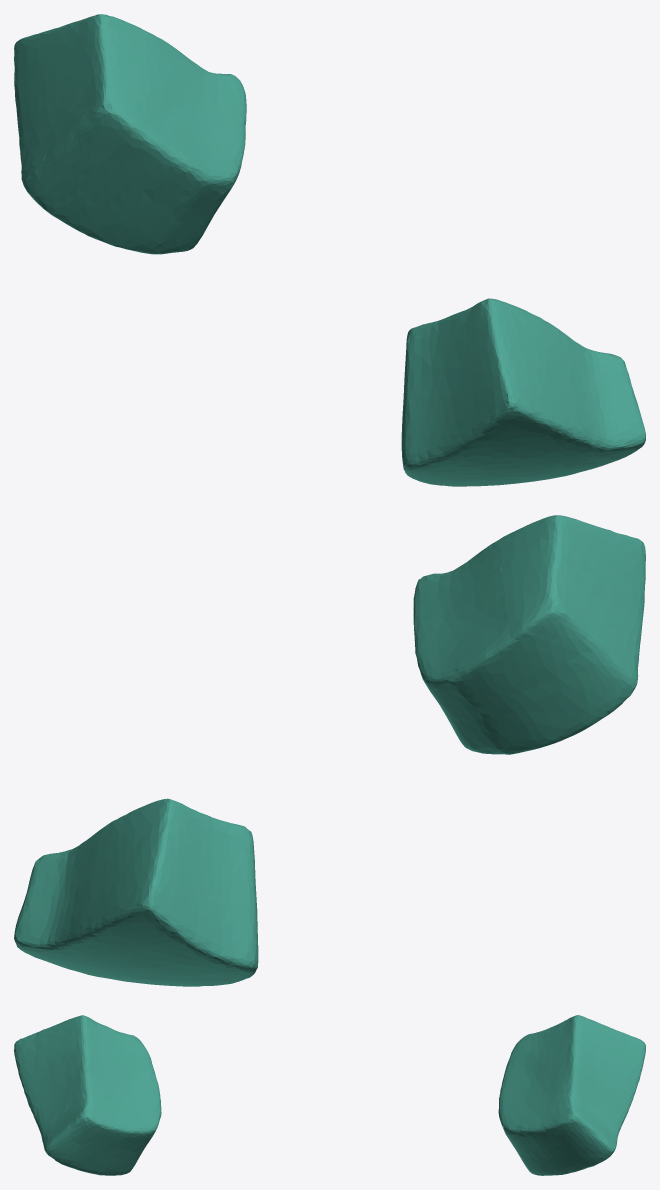
3 views of the same model, one above another, from view 1: azimuth 30°, elevation 25°; view 2: azimuth 150°, elevation 25°; view 3: azimuth 270°, elevation 25° (orthographic). The views are drawn at different scales.
Visible parts, largest first — view 1: 329.obj; view 2: 329.obj; view 3: 329.obj.
Part boxes in pixels (x1=…): 329.obj: x1=14, y1=14, x2=645, y2=486; 329.obj: x1=14, y1=515, x2=645, y2=986; 329.obj: x1=14, y1=1015, x2=645, y2=1175.
Bounding box in the file's own units: 2235 × 2180 × 8834.
